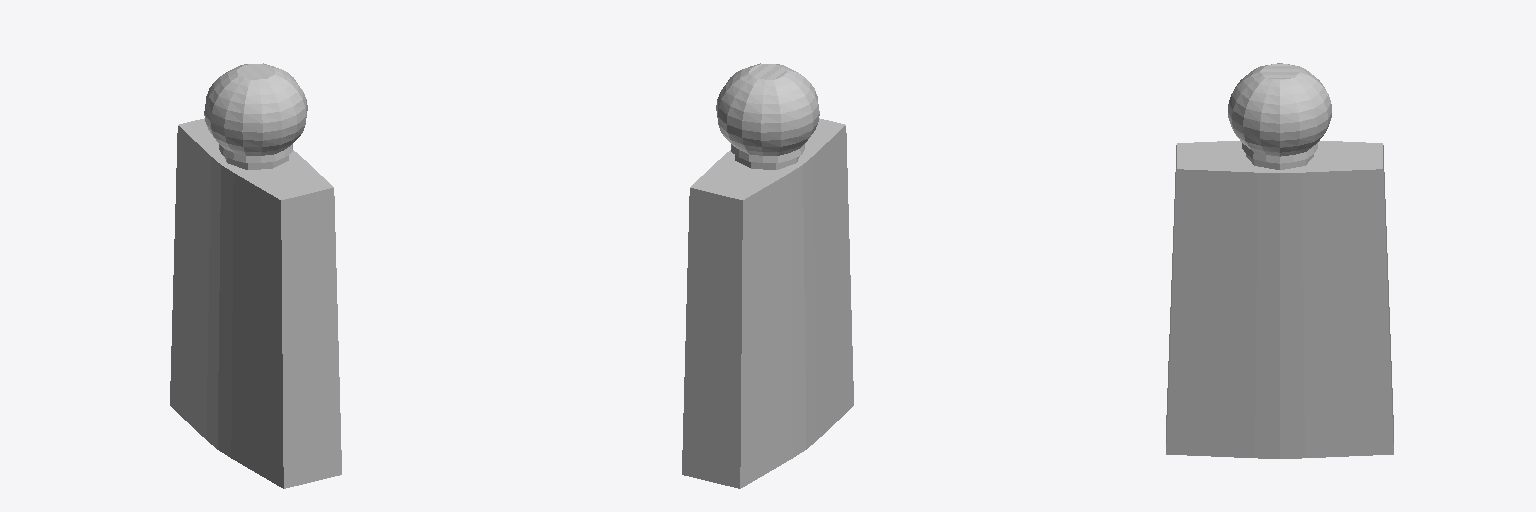
The model's file is holywater.obj.
3 renders of one model, left to right at view 1: azimuth 30°, elevation 25°; view 2: azimuth 150°, elevation 25°; view 3: azimuth 270°, elevation 25°, orthographic.
Parts seen in each view (by area): view 1: Bottle_low_Material_0; view 2: Bottle_low_Material_0; view 3: Bottle_low_Material_0.
Boxes of the visible parts, box(x1,y1,x2,y2) form: Bottle_low_Material_0: box(170, 63, 341, 488); Bottle_low_Material_0: box(682, 63, 853, 488); Bottle_low_Material_0: box(1166, 63, 1393, 458).
Size of the model in its own units: 101 by 393 by 220.